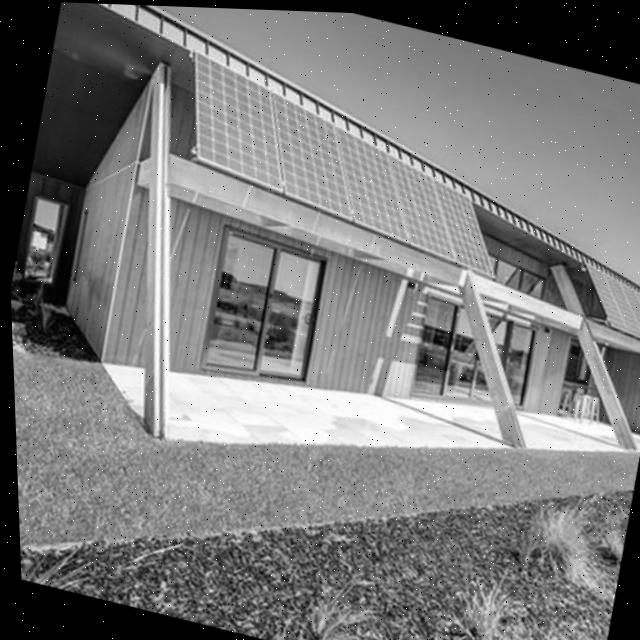building: (0, 0, 640, 491)
